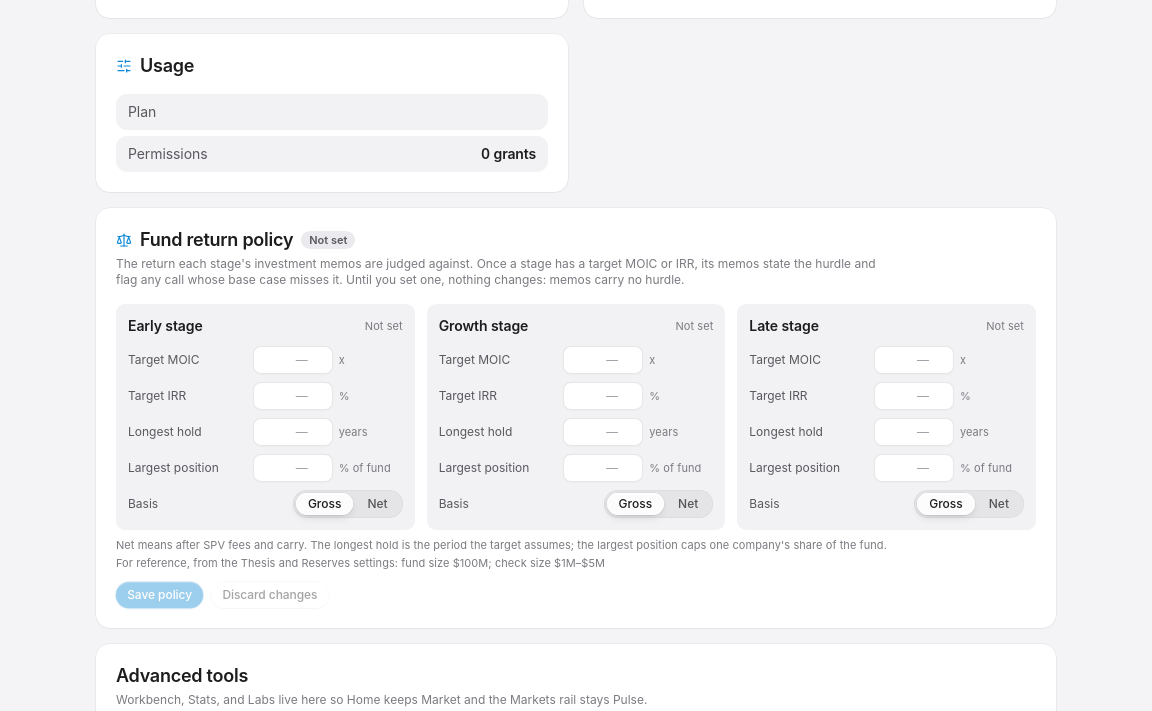
Scenario: Settings fund return policy › saves a stage's hurdle for an admin, and only the stages with numbers
This screenshot has width=1152, height=711.
(page scrolled)
Type "2" into the number field with test id "fund-policy-late-target_moic".
click(914, 360); type("2")  # box [874,346,954,374]
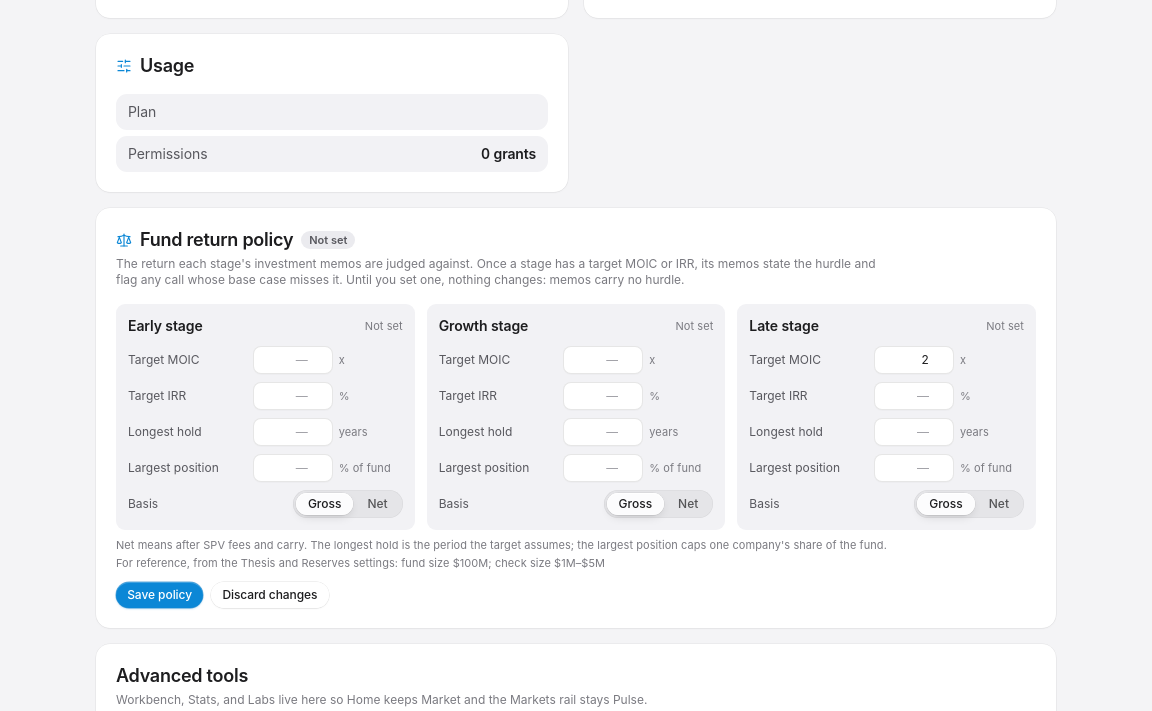
Type "20" into the number field labelled "Target IRR %" below "Late stage".
click(914, 396); type("20")  # box [874,382,954,410]
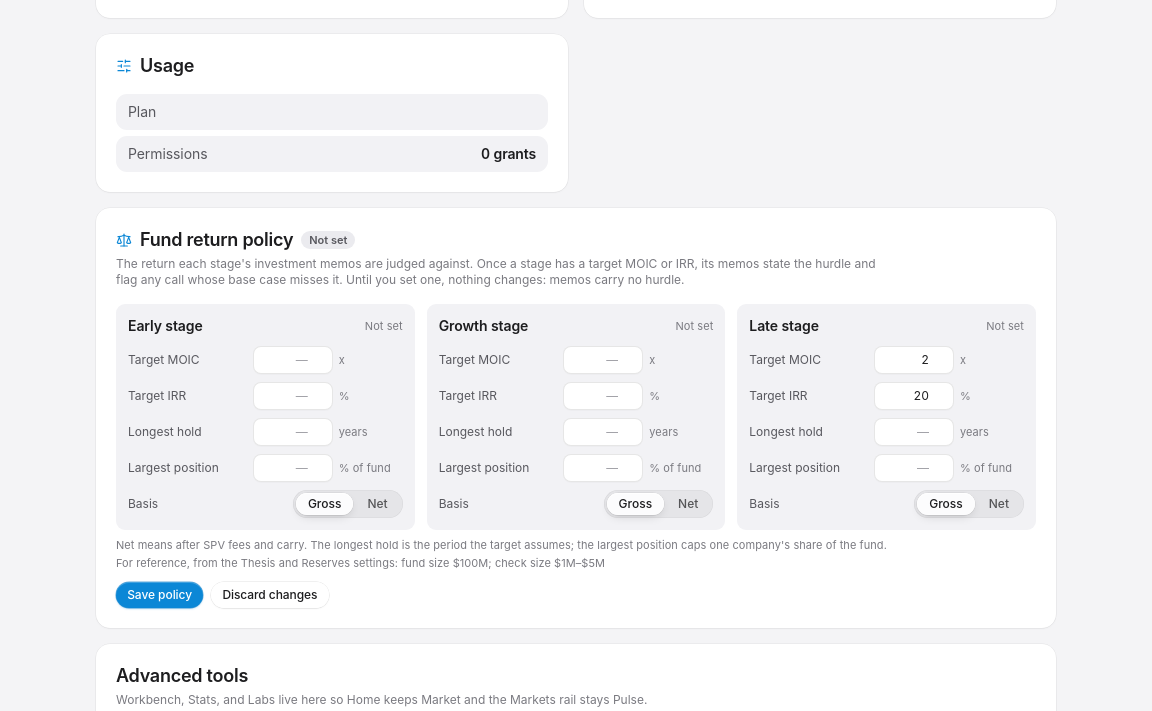
Type "5" into the number field labelled "Longest hold years" below "Late stage".
click(914, 432); type("5")  # box [874,418,954,446]
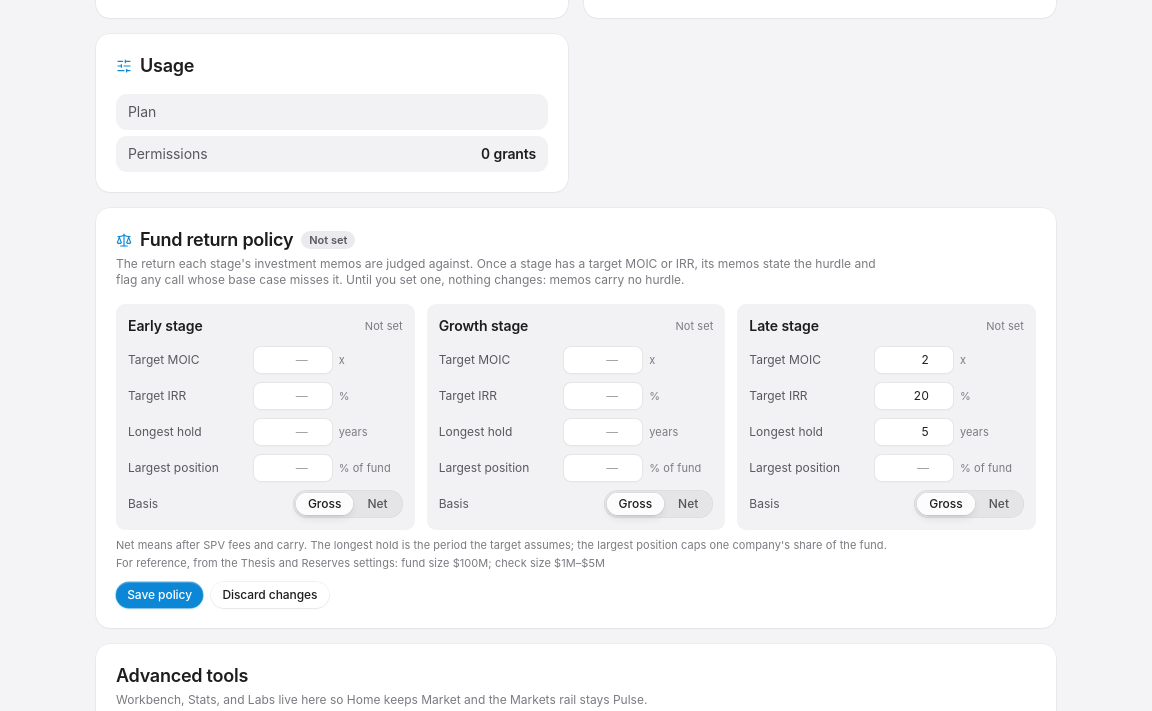
Type "10" into the number field labelled "Largest position % of fund" below "Late stage".
click(914, 468); type("10")  # box [874,454,954,482]
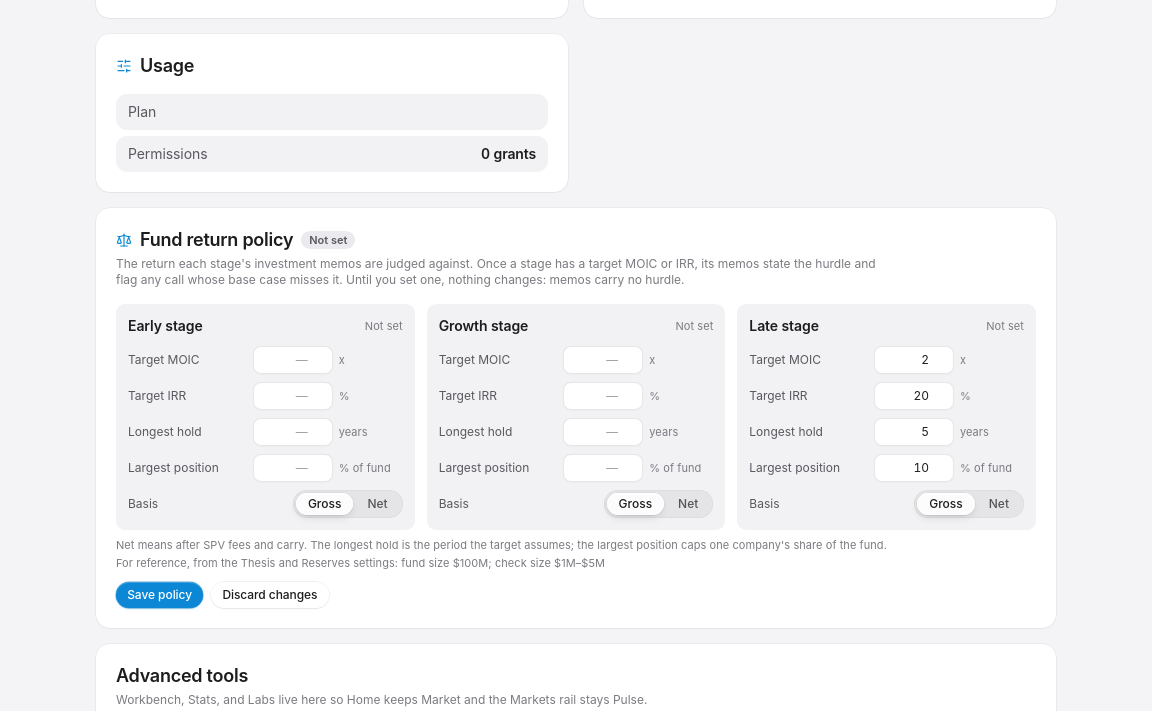
Click the button with test id "fund-policy-late-basis-net".
click(999, 504)  # box [977,493,1021,515]
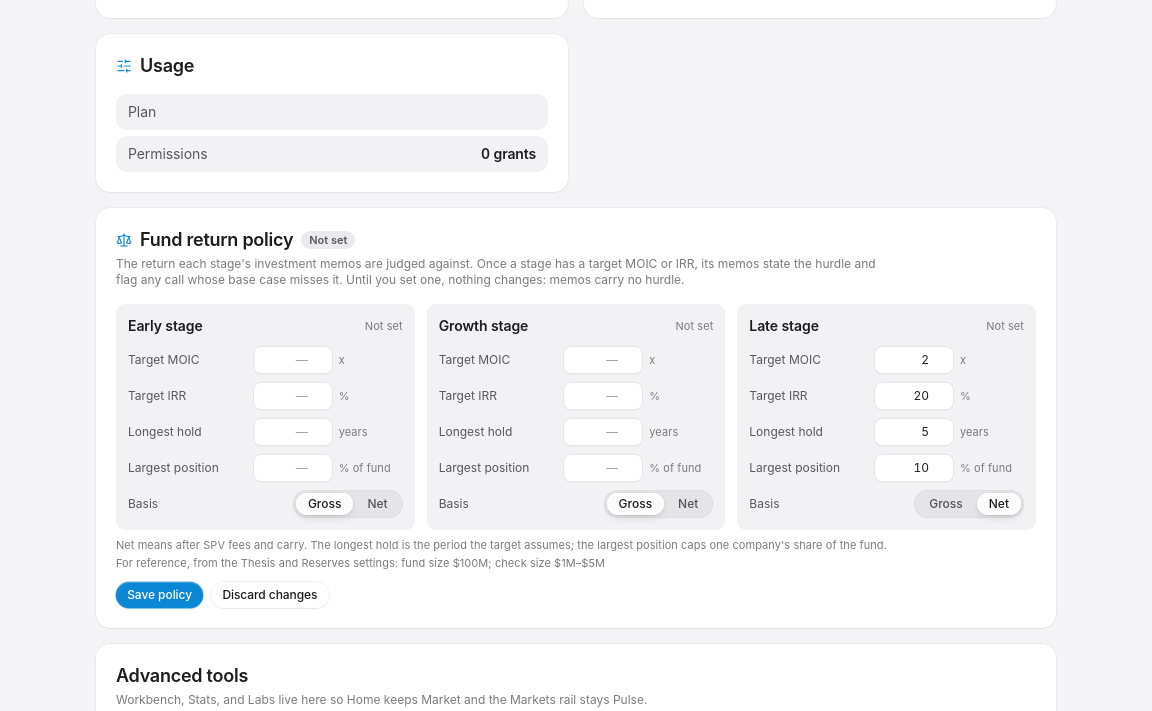
Expected: the button with test id "fund-policy-save" is enabled
Click the button with test id "fund-policy-save".
click(160, 595)  # box [116,582,203,608]
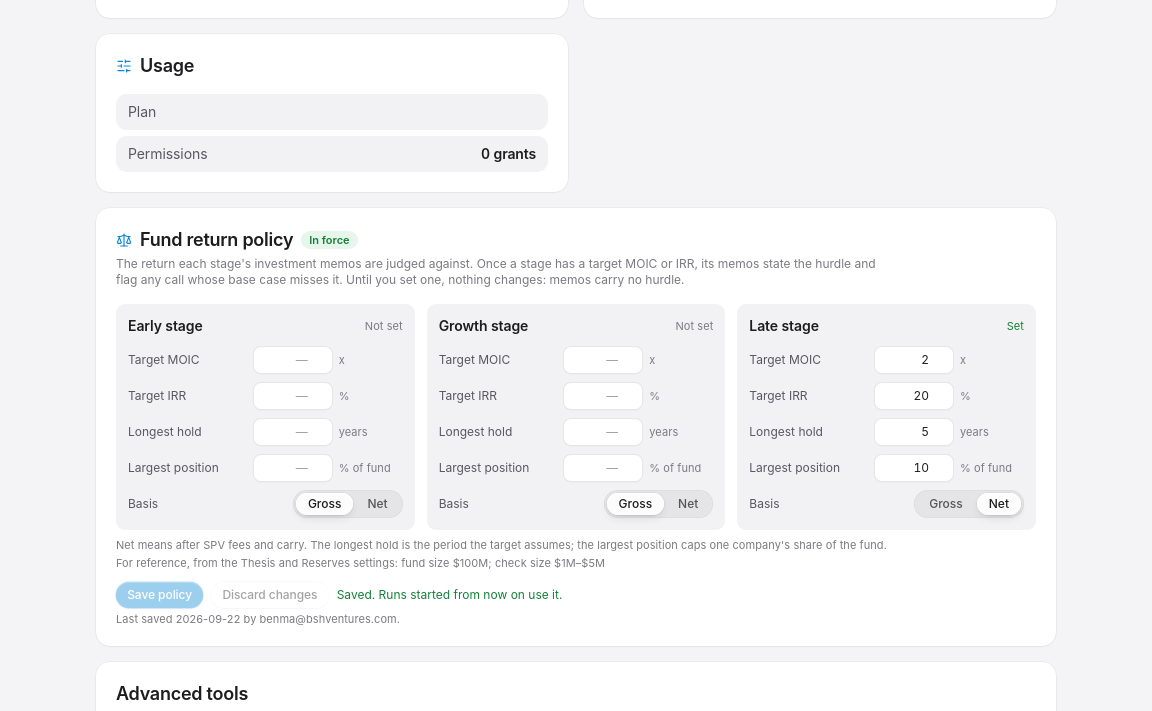
Expected: the text with test id "fund-policy-state" reads "In force", [309,233,350,247]
Expected: the text with test id "fund-policy-late-state" reads "Set", [1007,319,1024,333]
Expected: the text "Saved. Runs started from now on use it." is shown, [337,587,562,603]
